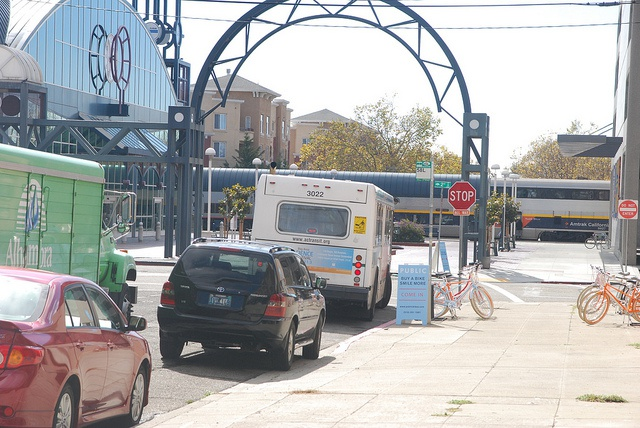non-vehicle: (430, 263, 493, 322), (582, 271, 640, 324), (579, 281, 632, 319), (584, 233, 607, 249)
